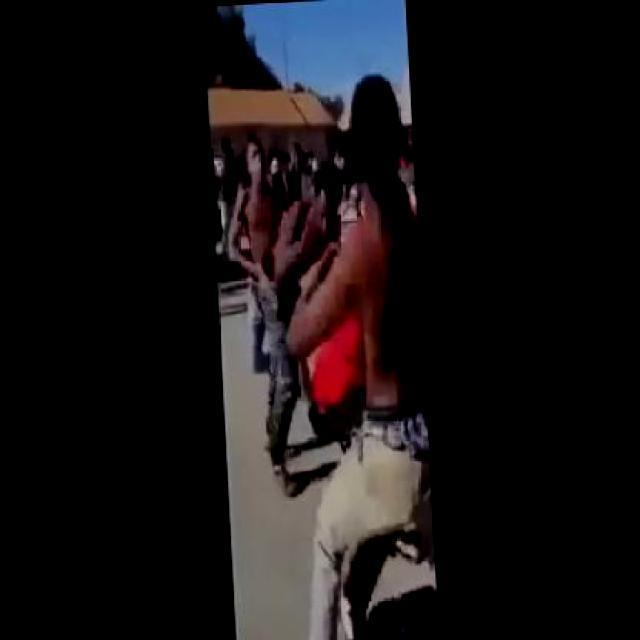fight: (258, 68, 426, 424)
